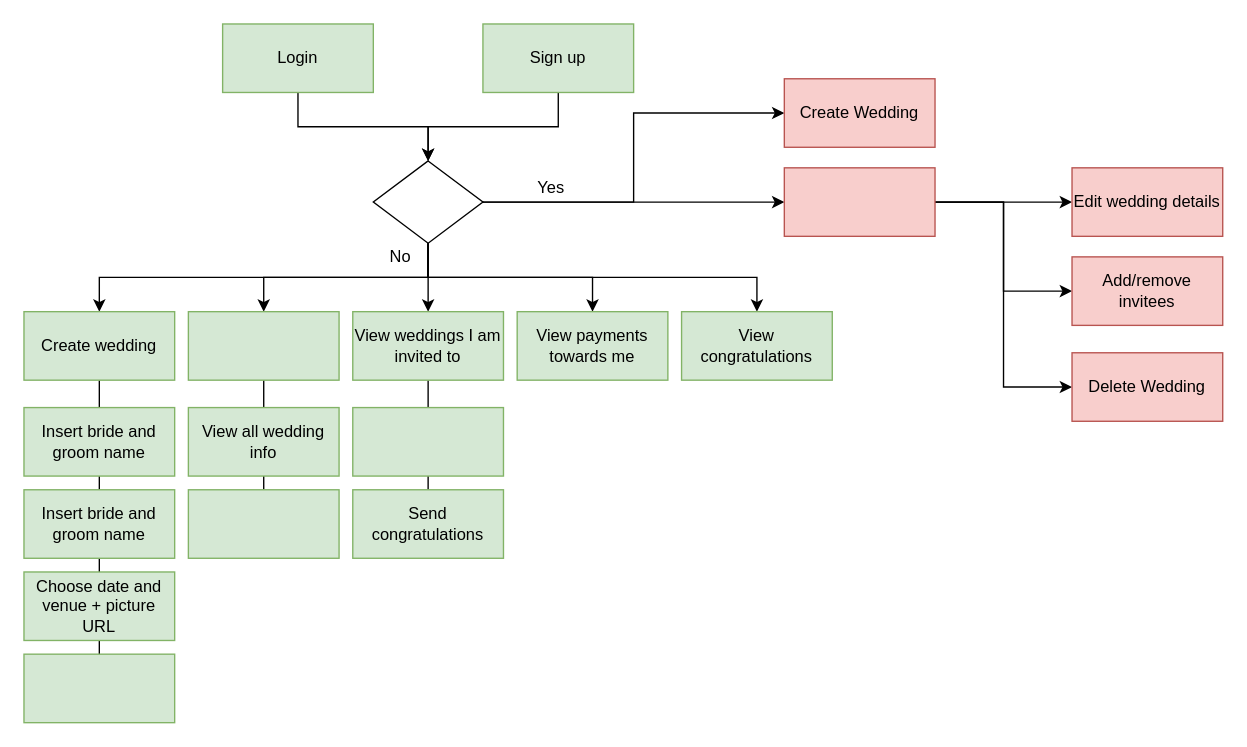
Some shapes in this 1247 by 747 pixel diagram are drawn without their labels. Here are the shapes that lost their labels. From the top down, the centre of each, then its label:
At point (427, 201): "Is admin?".
At point (859, 201): "View all weddings".
At point (263, 345): "View my wedding".
At point (427, 441): "Send money to the couple".
At point (263, 523): "Edit info and invitees list".
At point (99, 688): "Invite people".
